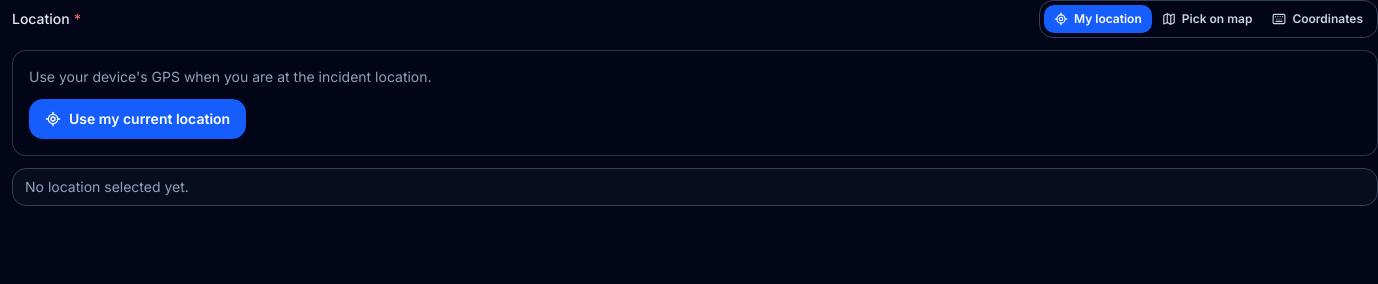
Scenario: LocationPicker › reports unsupported browsers without crashing
Click the button "Use my current location" at coordinates (138, 119), box [29,99,246,139]
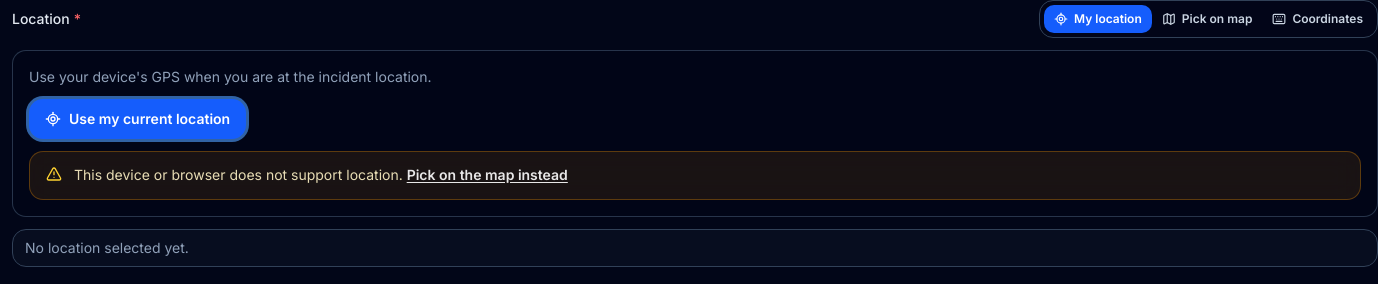
Check: the text "This device or browser does not support location." is shown, box [74,166,403,183]
